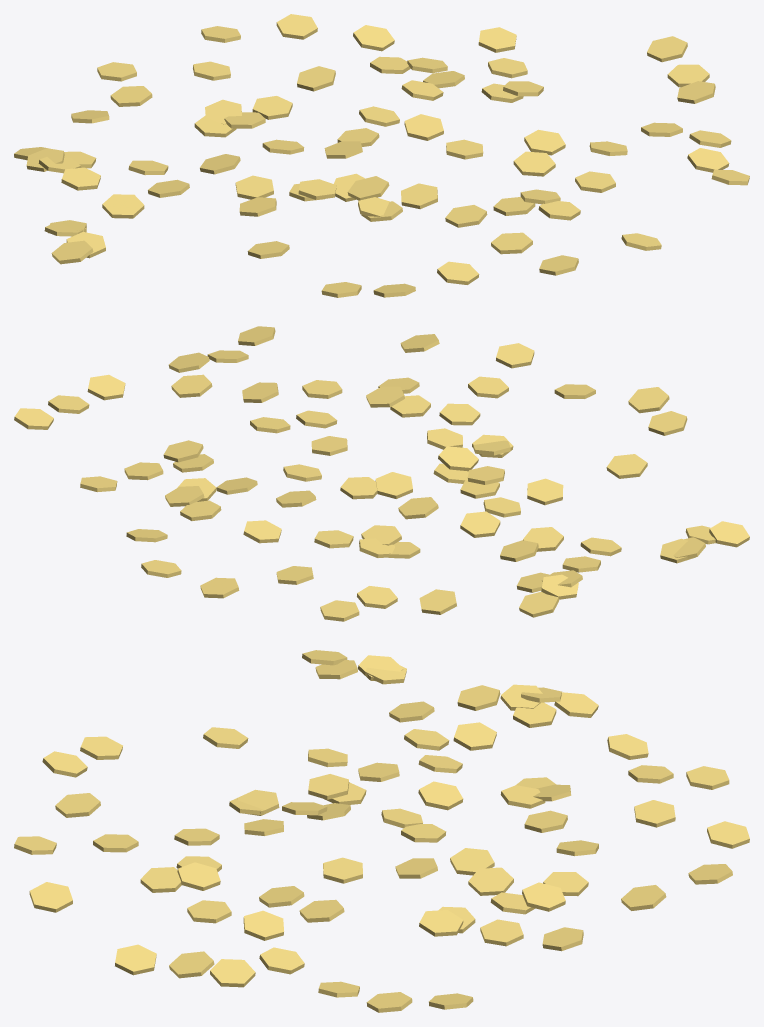
File: dragons-and-wyverns-scattered-gold-coins-52e40564__36741.glb
3 views of the same model, one above another, from view 1: azimuth 30°, elevation 25°; view 2: azimuth 150°, elevation 25°; view 3: azimuth 270°, elevation 25° (orthographic). The views are drawn at different scales.
Parts seen in each view (by area): view 1: scattered-gold-coins; view 2: scattered-gold-coins; view 3: scattered-gold-coins.
Part boxes in pixels (<box>): scattered-gold-coins: <box>14,14,749,297</box>; scattered-gold-coins: <box>14,326,749,621</box>; scattered-gold-coins: <box>14,650,749,1012</box>.
Bounding box in the file's own units: 2.64 × 0.0677 × 2.26.
